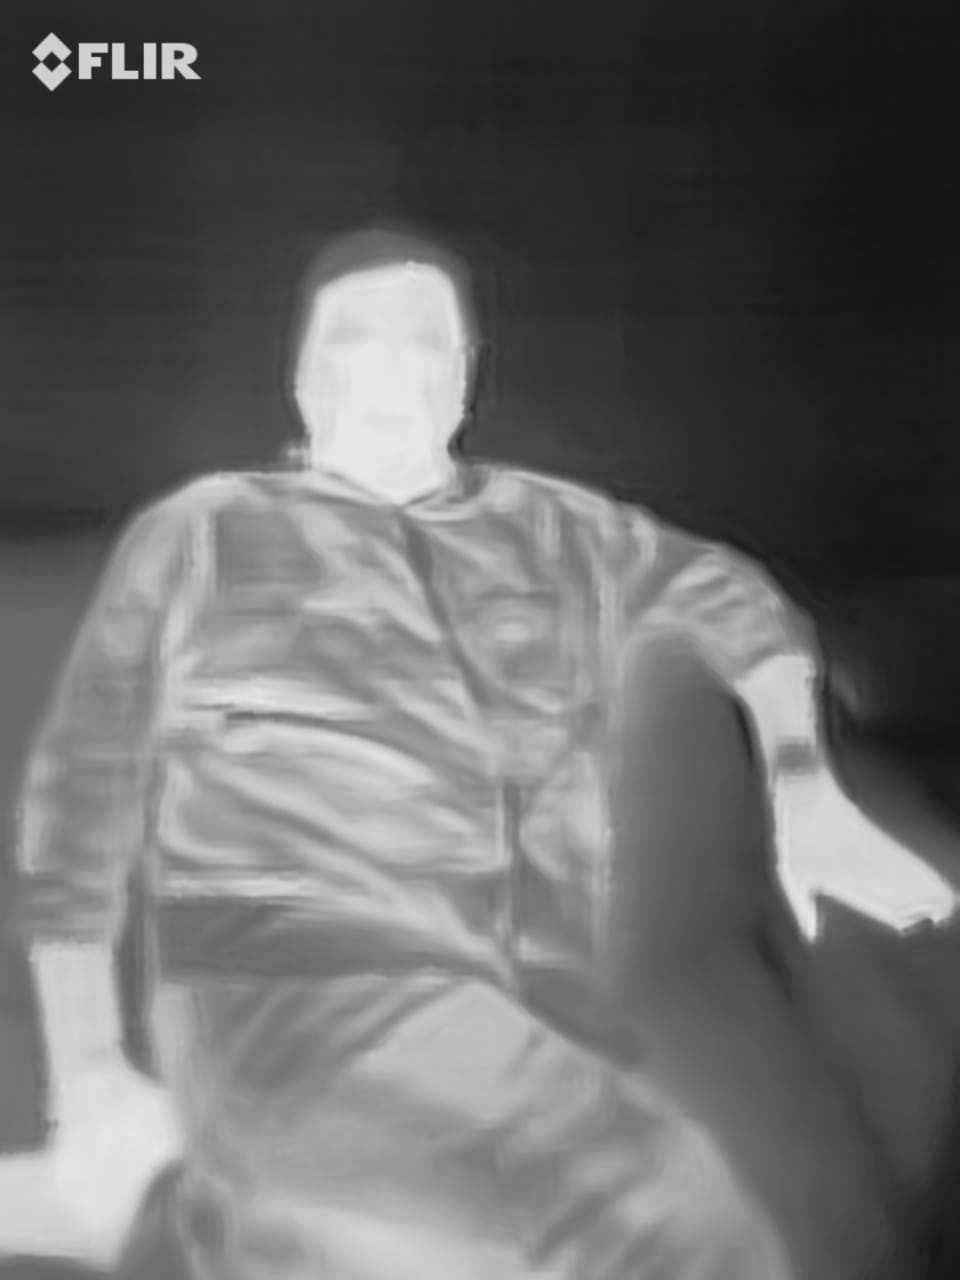head: (276, 221, 486, 494)
